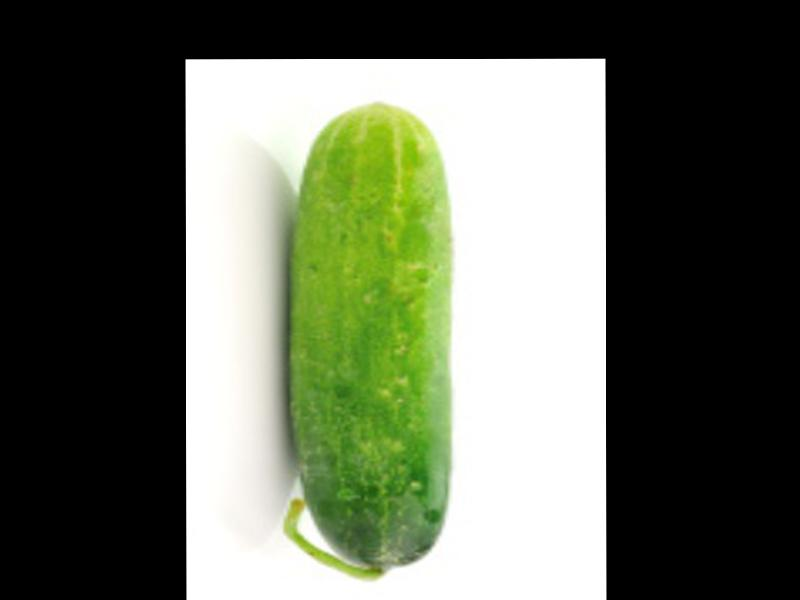Cucumber: (283, 98, 452, 576)
